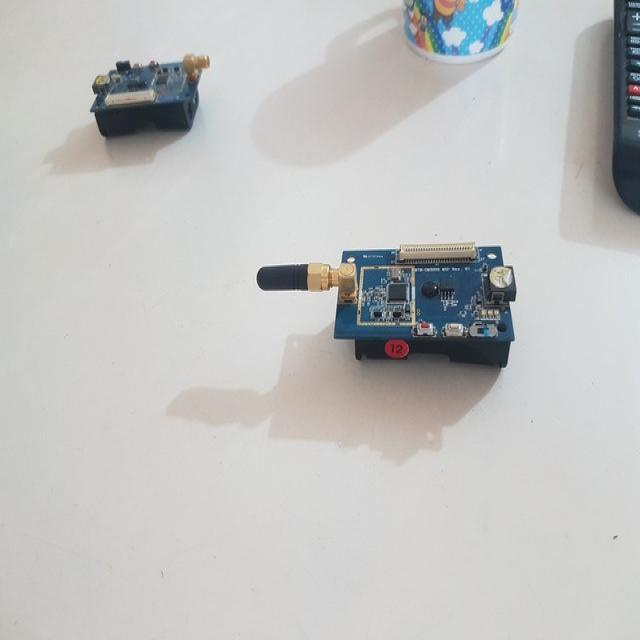TelosB: (258, 243, 517, 369), (92, 54, 210, 137)
